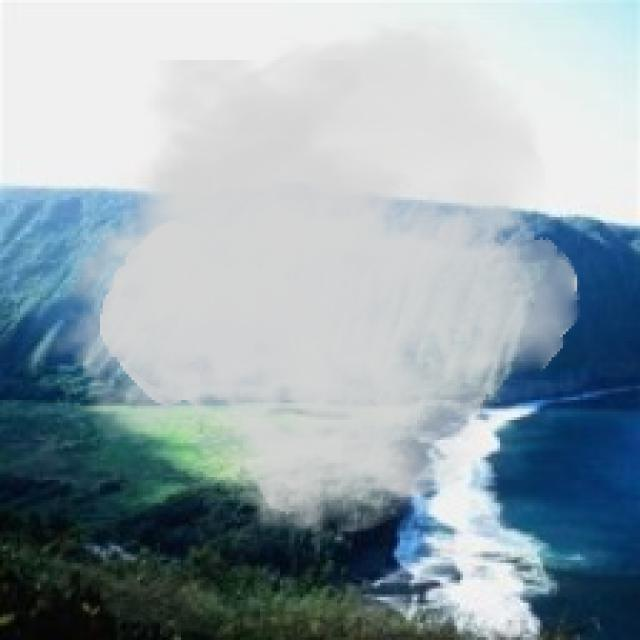smoke: (46, 14, 580, 540)
